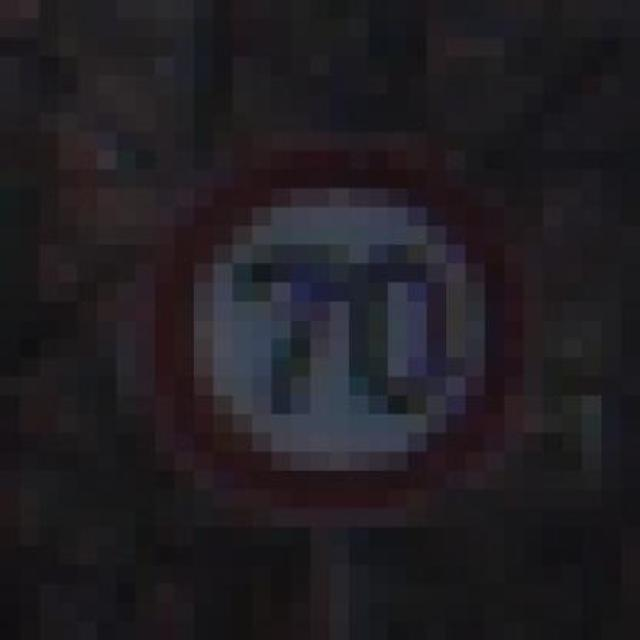forb_speed_over_70: (159, 164, 515, 508)
